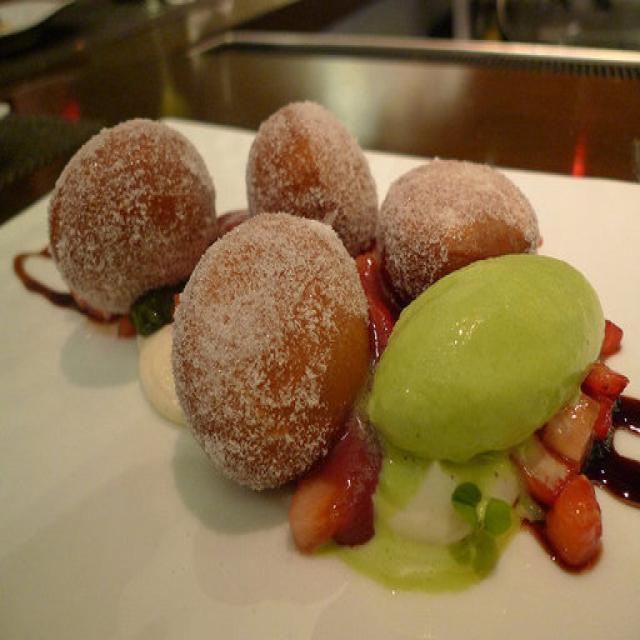Donuts: (34, 89, 366, 479)
